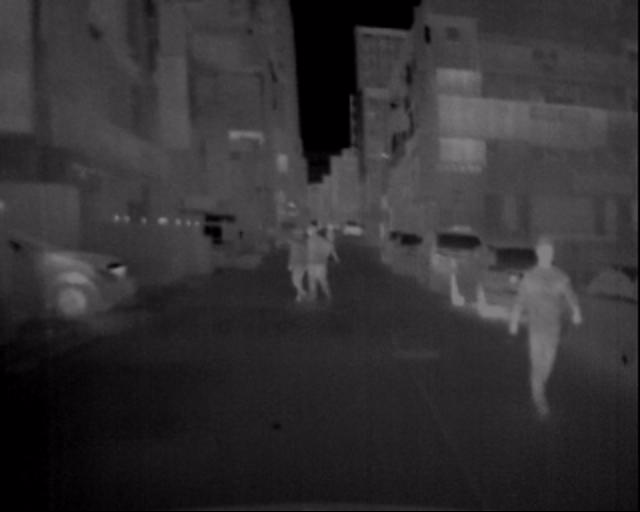person: (513, 212, 597, 434), (282, 204, 316, 303), (305, 212, 334, 308), (317, 209, 351, 259)
